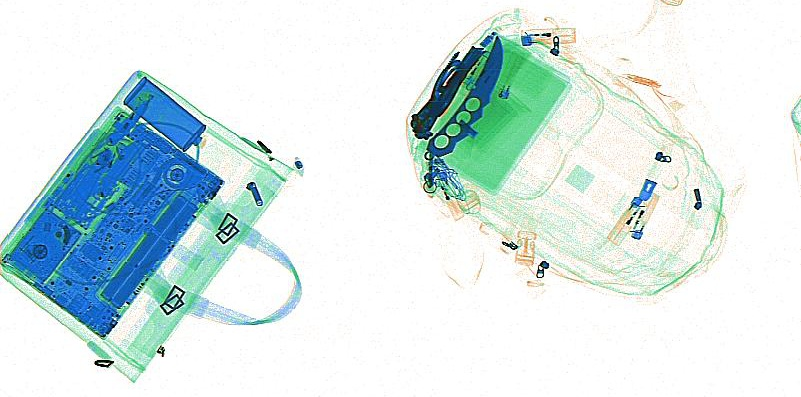handcuffs: (408, 49, 472, 139)
knife: (423, 34, 503, 159), (436, 44, 485, 105), (102, 104, 147, 144)
lighter: (605, 194, 644, 245), (629, 190, 660, 241), (436, 170, 464, 221), (520, 25, 575, 45)
zippooil: (122, 76, 205, 150)
